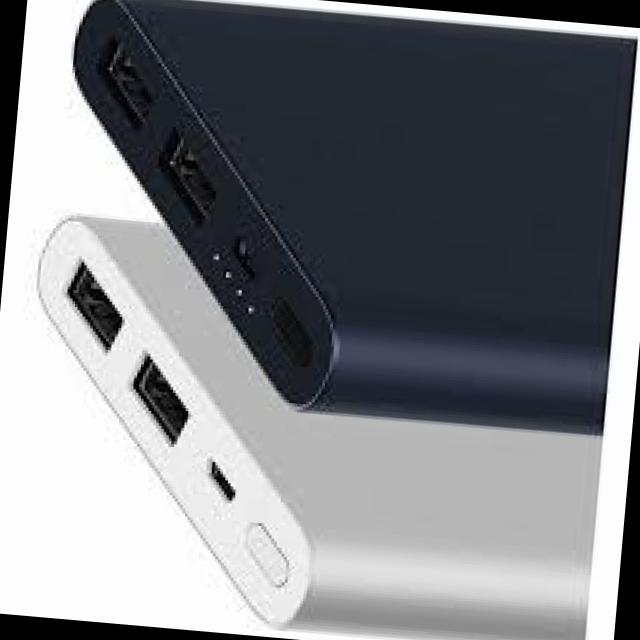portable-charger: (0, 210, 617, 640), (36, 0, 638, 436)
